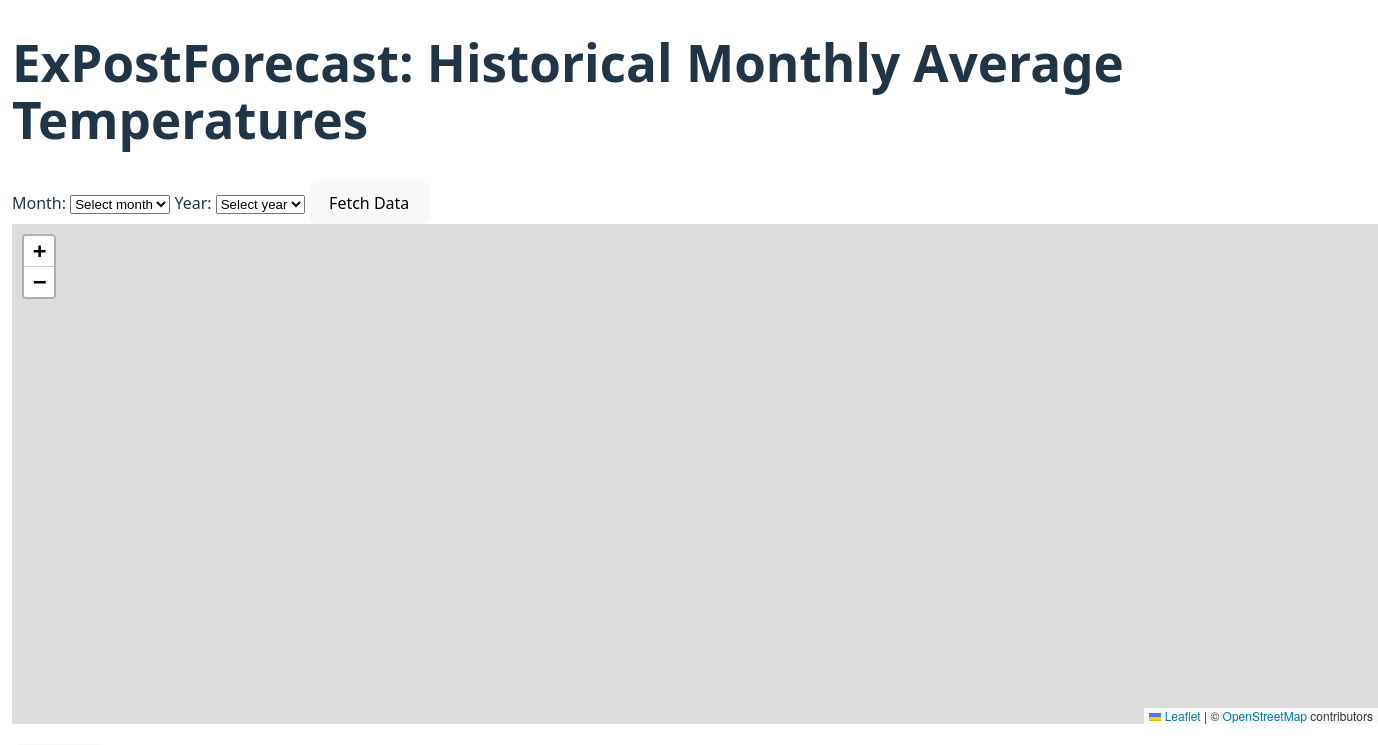
Test: MapPage data fetch › returns to /login when the session has expired
Expected: the heading "ExPostForecast: Historical Monthly Average Temperatures" is shown, 12,27 -> 1124,154
Select "July" in the dropdown labelled "Month:" at point(120, 204), box 70,195 -> 170,214
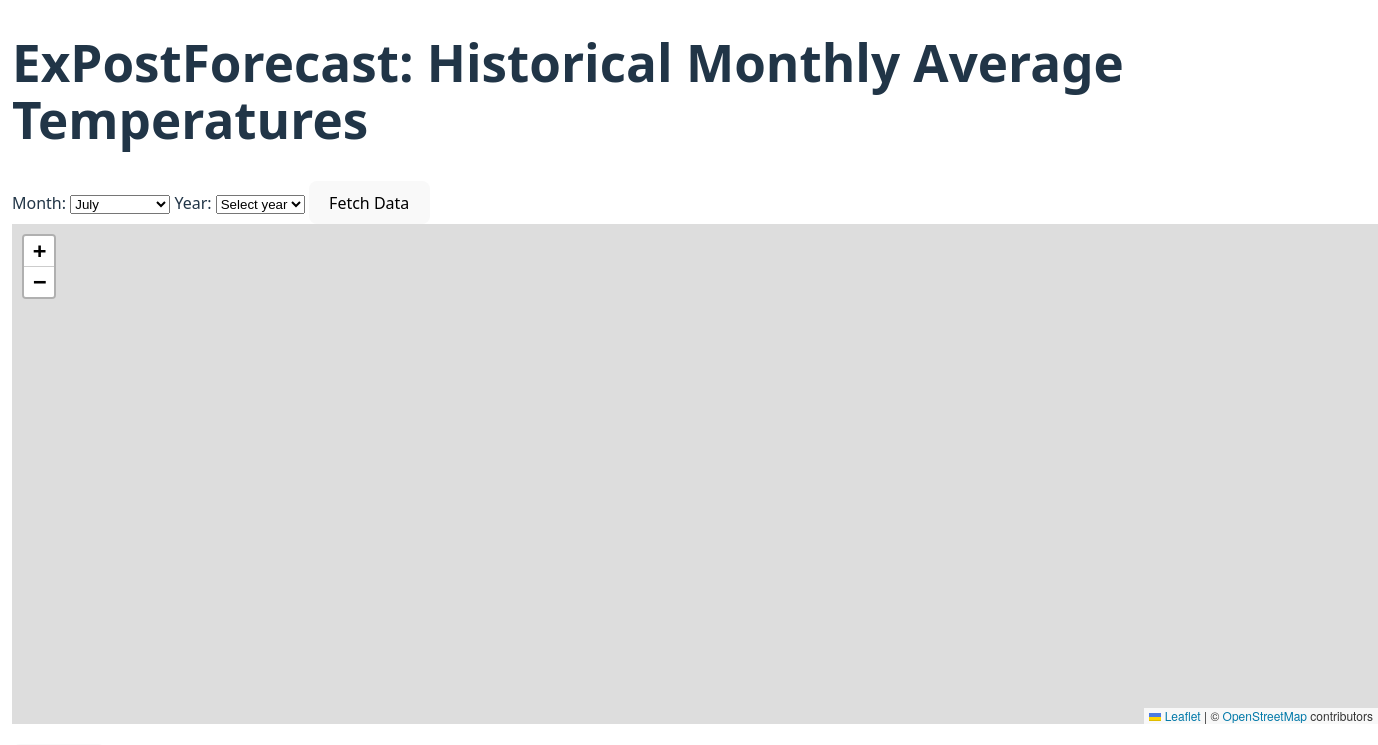
Select "2020" in the dropdown labelled "Year:" at point(260, 204), box 216,195 -> 305,214
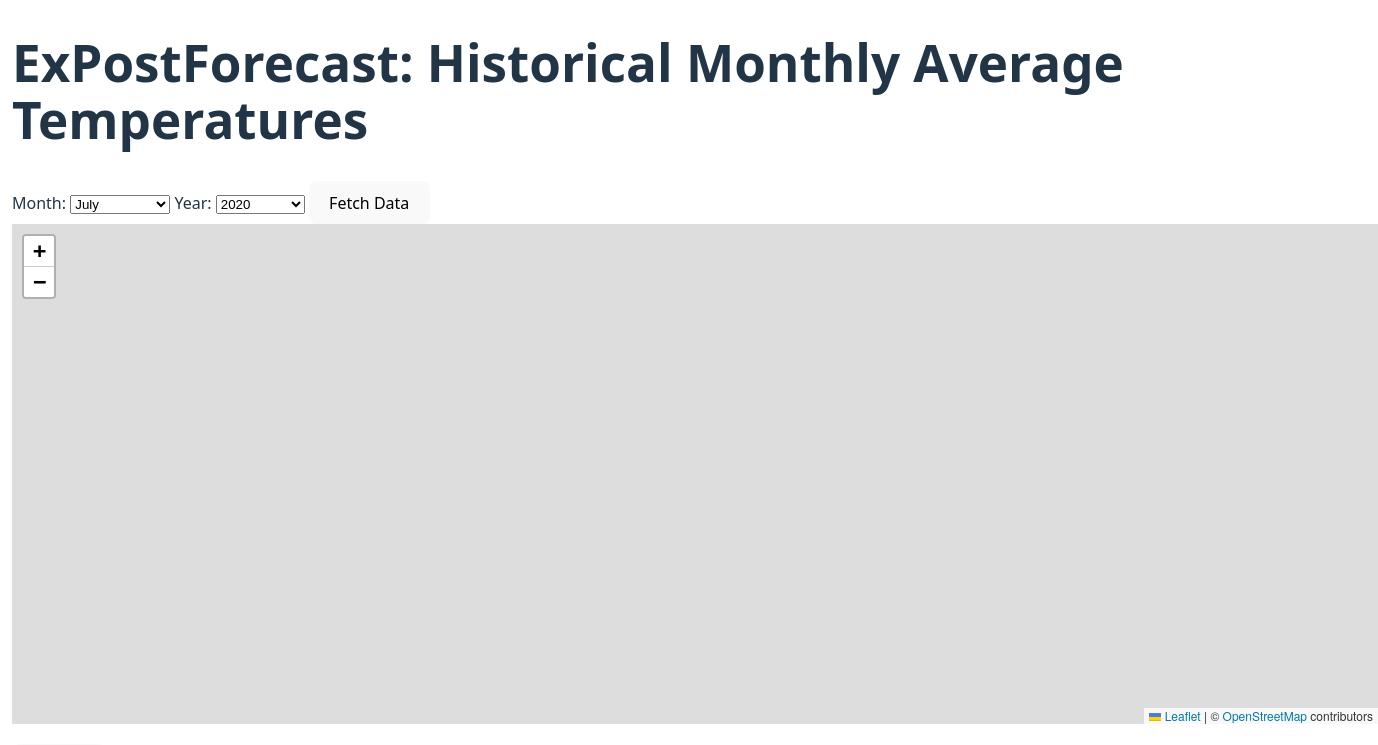
Click the button "Fetch Data" at point(369, 203), box 309,181 -> 430,224
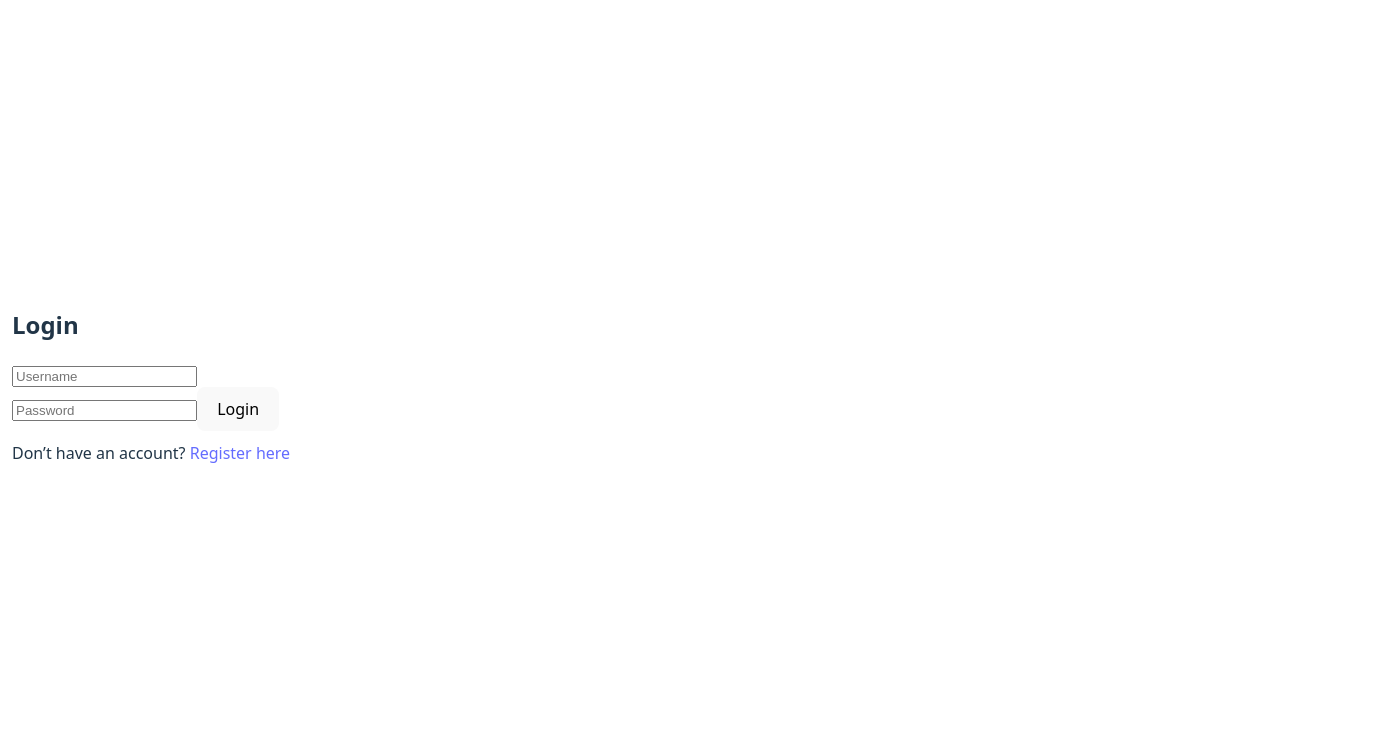
Expected: the heading "Login" is shown, 12,308 -> 79,341
